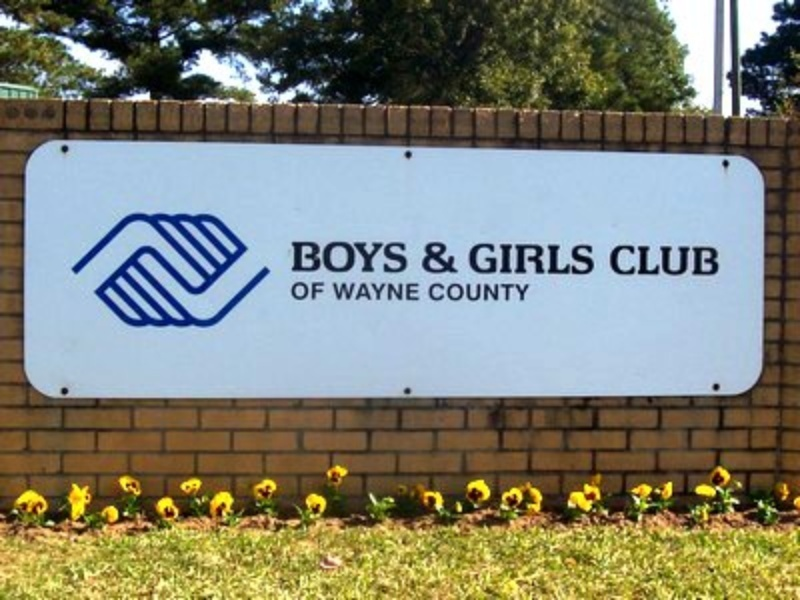text: (433, 239, 448, 277), (481, 241, 496, 277), (497, 241, 512, 277), (513, 241, 528, 277), (529, 241, 544, 277), (545, 241, 560, 277), (561, 241, 576, 277), (577, 241, 592, 277), (705, 245, 721, 277), (305, 241, 320, 273), (321, 241, 336, 273), (337, 241, 352, 273), (353, 241, 368, 273), (369, 241, 384, 273), (385, 241, 400, 273), (609, 245, 624, 277), (625, 245, 640, 277), (641, 245, 656, 277), (657, 245, 672, 277), (673, 245, 688, 277), (689, 245, 704, 277), (467, 241, 480, 277), (421, 239, 432, 277), (449, 239, 460, 277), (291, 241, 304, 273), (305, 281, 320, 301), (337, 283, 352, 301), (353, 283, 368, 301), (369, 283, 384, 301), (385, 283, 400, 301), (401, 283, 416, 301), (433, 283, 448, 301), (449, 283, 464, 301), (465, 283, 480, 301), (481, 283, 496, 301), (497, 283, 512, 301), (513, 283, 528, 301), (401, 241, 409, 273), (293, 281, 304, 301), (593, 241, 597, 277), (321, 281, 325, 301), (333, 283, 336, 301), (417, 283, 419, 301), (529, 283, 531, 301), (431, 283, 432, 301)
